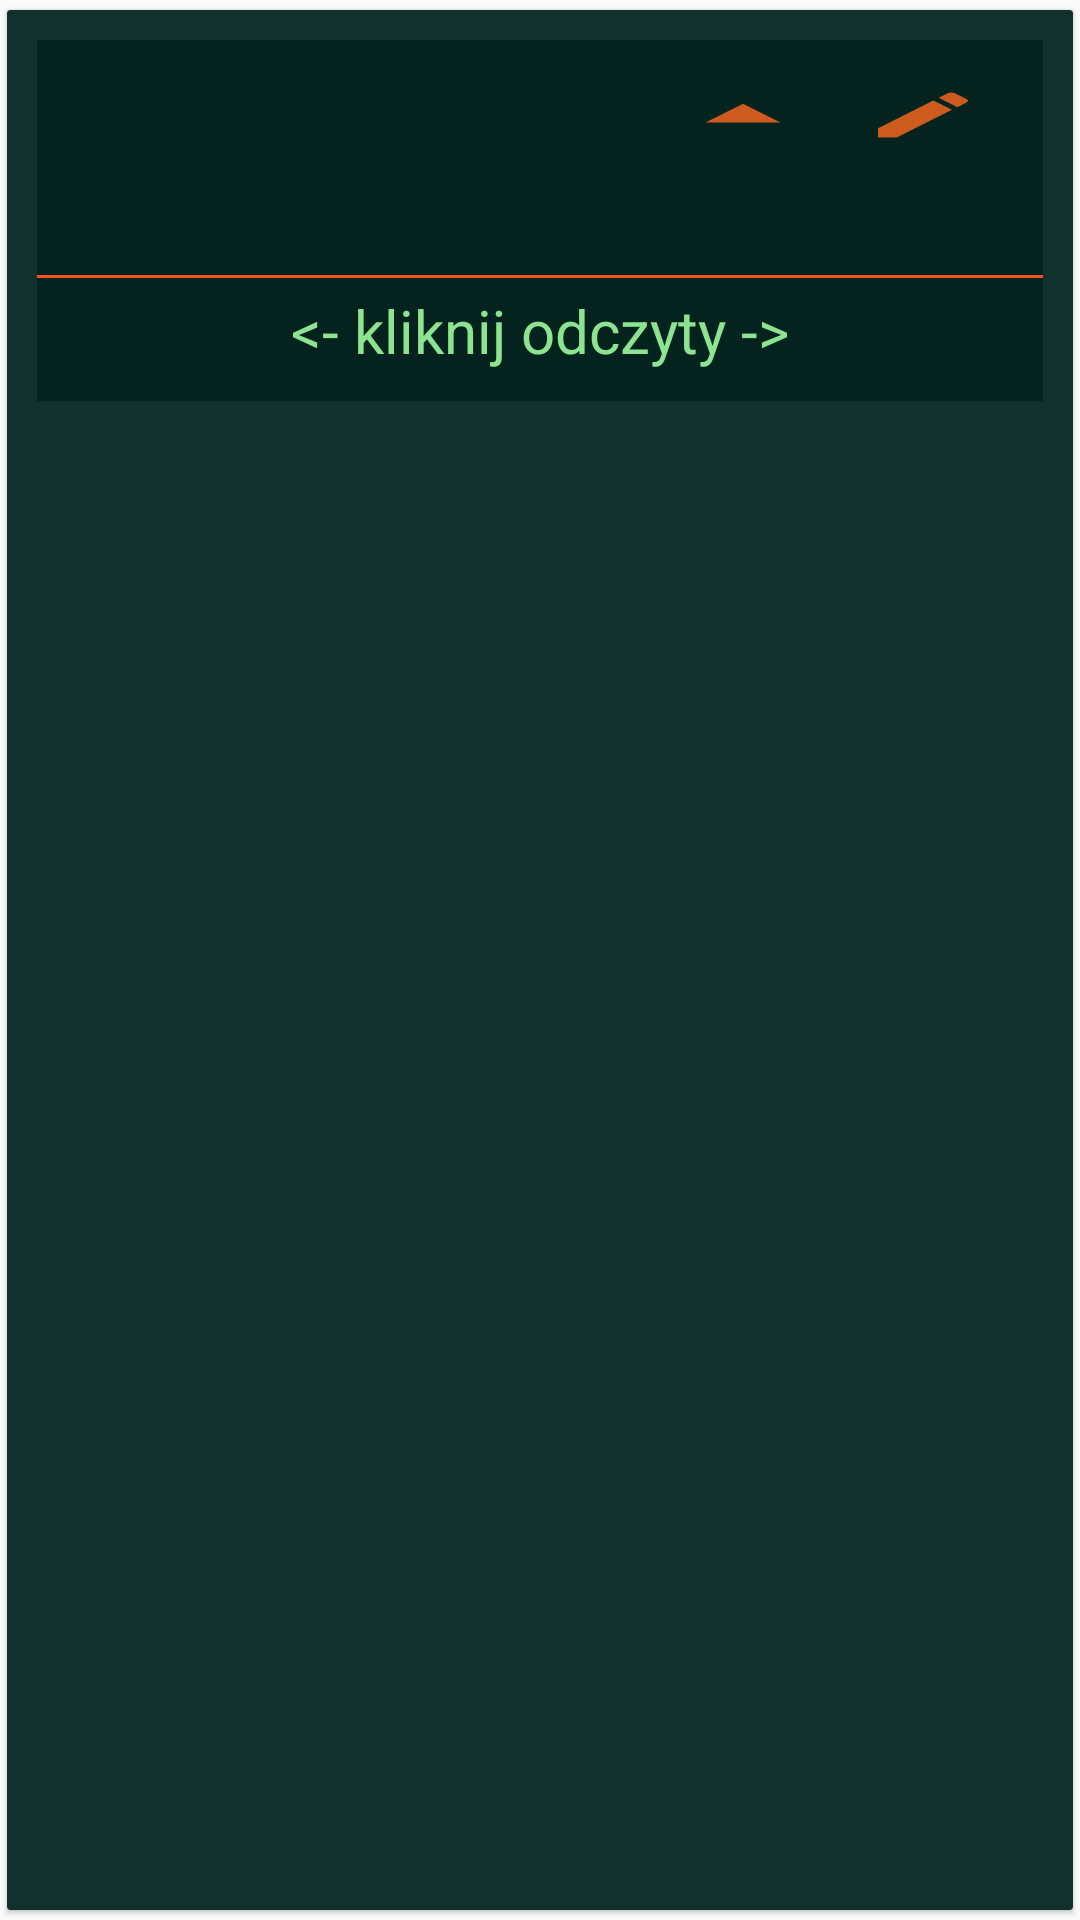

Locate icon controls on the screen. Image size 1080*1920, boxes as (x1, y1, x2, y2).
edit: (878, 92, 968, 138)
